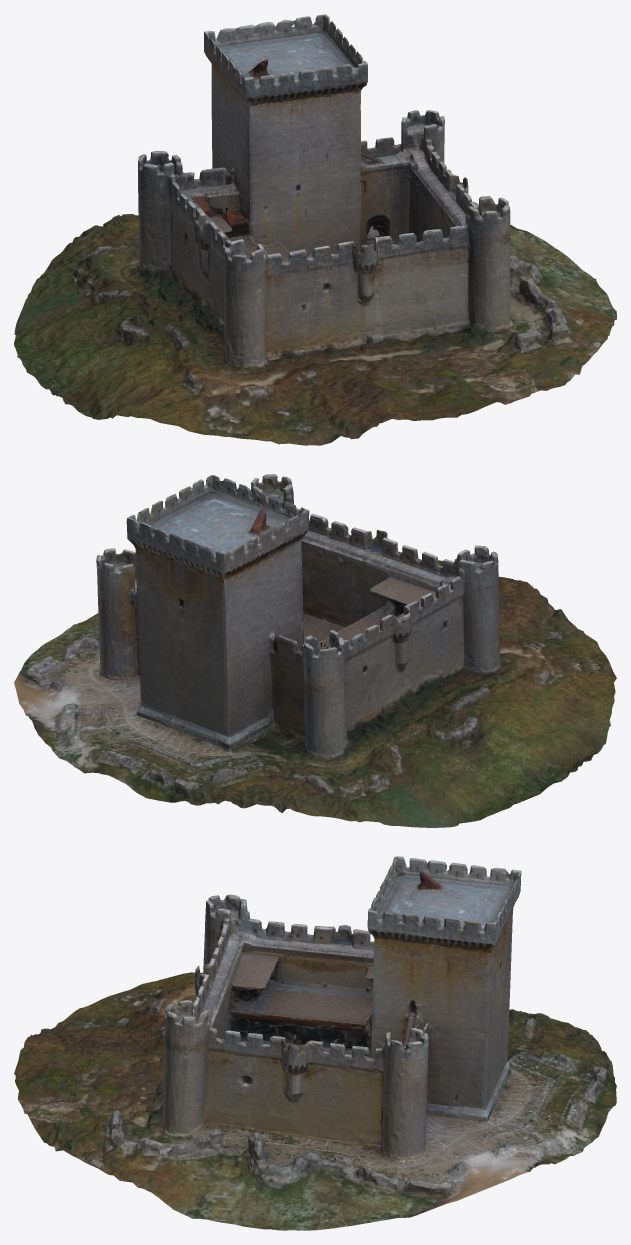
3 views of the same model, one above another, from view 1: azimuth 30°, elevation 25°; view 2: azimuth 150°, elevation 25°; view 3: azimuth 270°, elevation 25° (orthographic).
Parts seen in each view (by area): view 1: Object_2; view 2: Object_2; view 3: Object_2.
Boxes of the visible parts, <box> form: Object_2: <box>14,14,616,445</box>; Object_2: <box>14,474,616,827</box>; Object_2: <box>14,856,616,1230</box>.
Size of the model in its own units: 68.64 by 30.26 by 68.03.
Materials: 1 (1 with a texture image).
